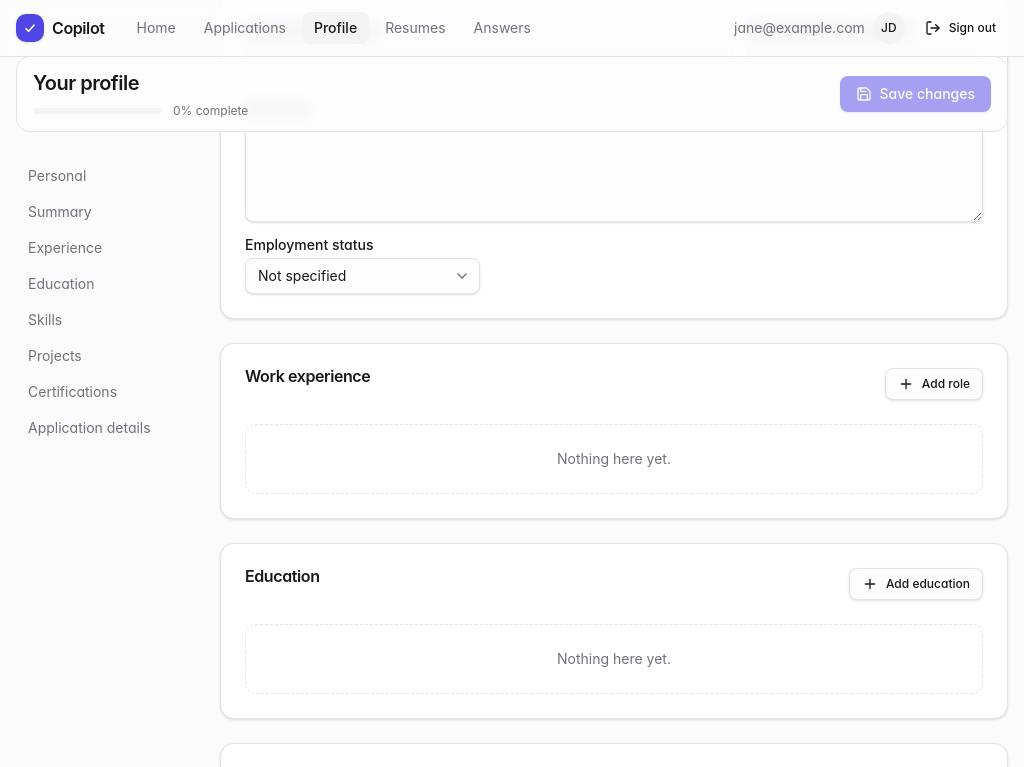
Test: point editors › keeps achievements optional and removes empty points with backspace
This screenshot has width=1024, height=767.
Later steps or results of the test are not shown.
(page scrolled)
Click the button "Add role".
click(934, 384)  # box [885,368,983,400]
(page scrolled)
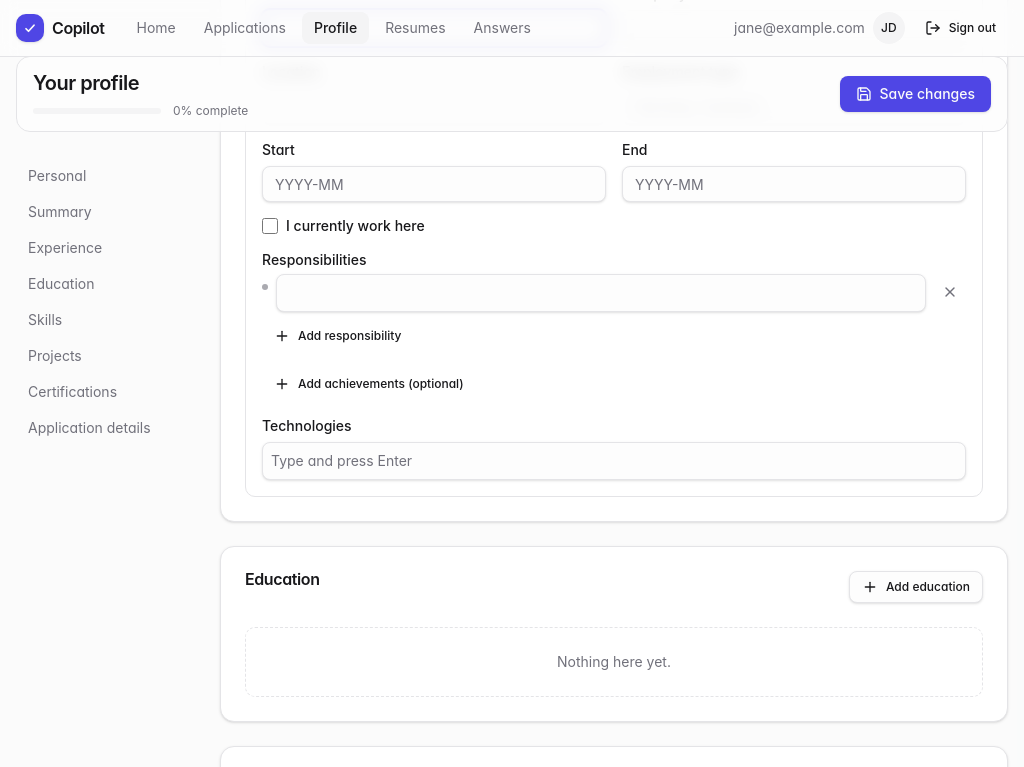
Expected: the text box named "Responsibilities point 1" is shown, [276,274,926,312]
